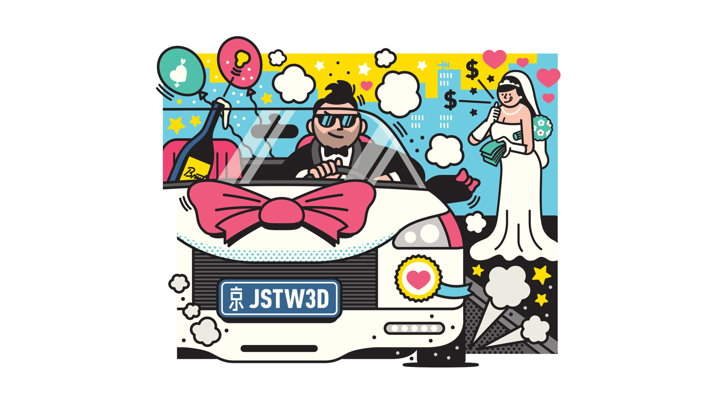license plate: (217, 277, 339, 323)
